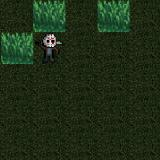Jason: (33, 33, 65, 64)
Slow: (33, 0, 66, 32), (97, 0, 130, 32), (1, 32, 33, 64)
